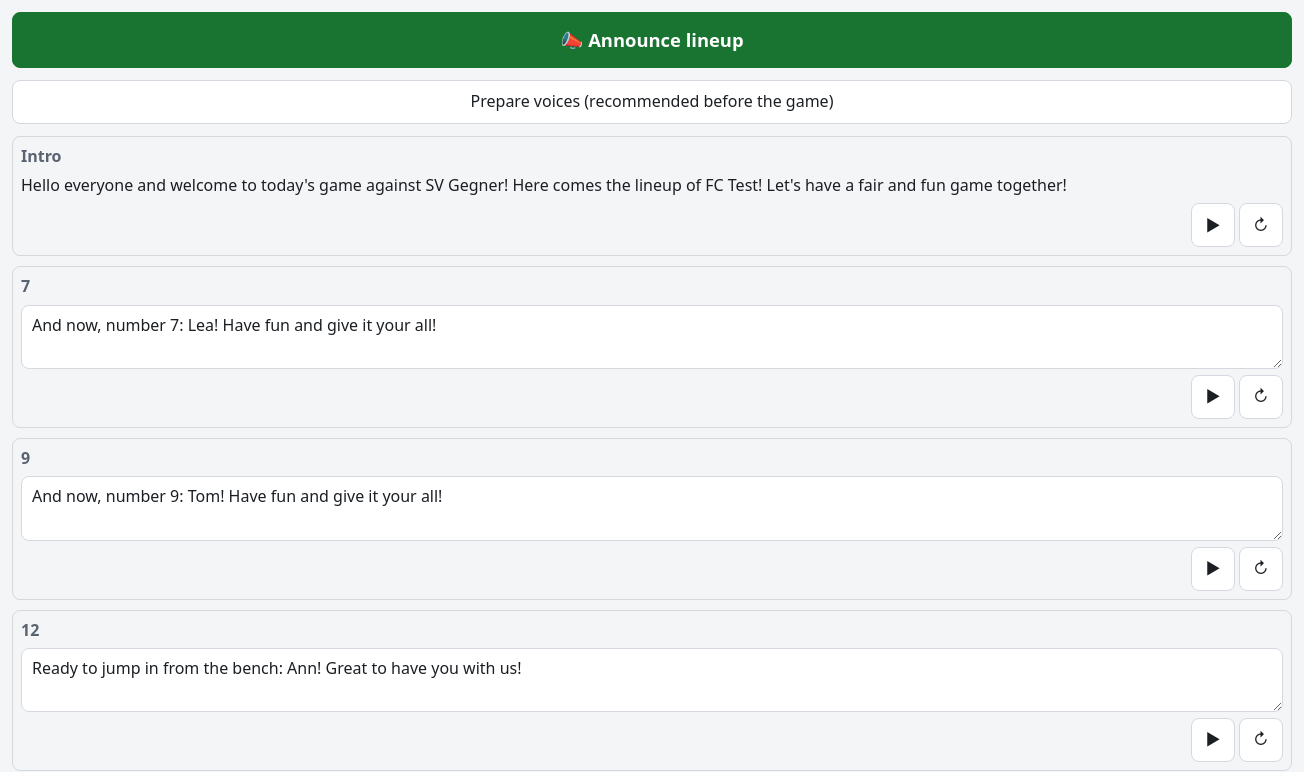
Test: Prepare voices failure clears progress, re-enables the button and shows the alert
Click the button "Prepare voices (recommended before the game)". click: (652, 102)
box: [12, 80, 1292, 124]
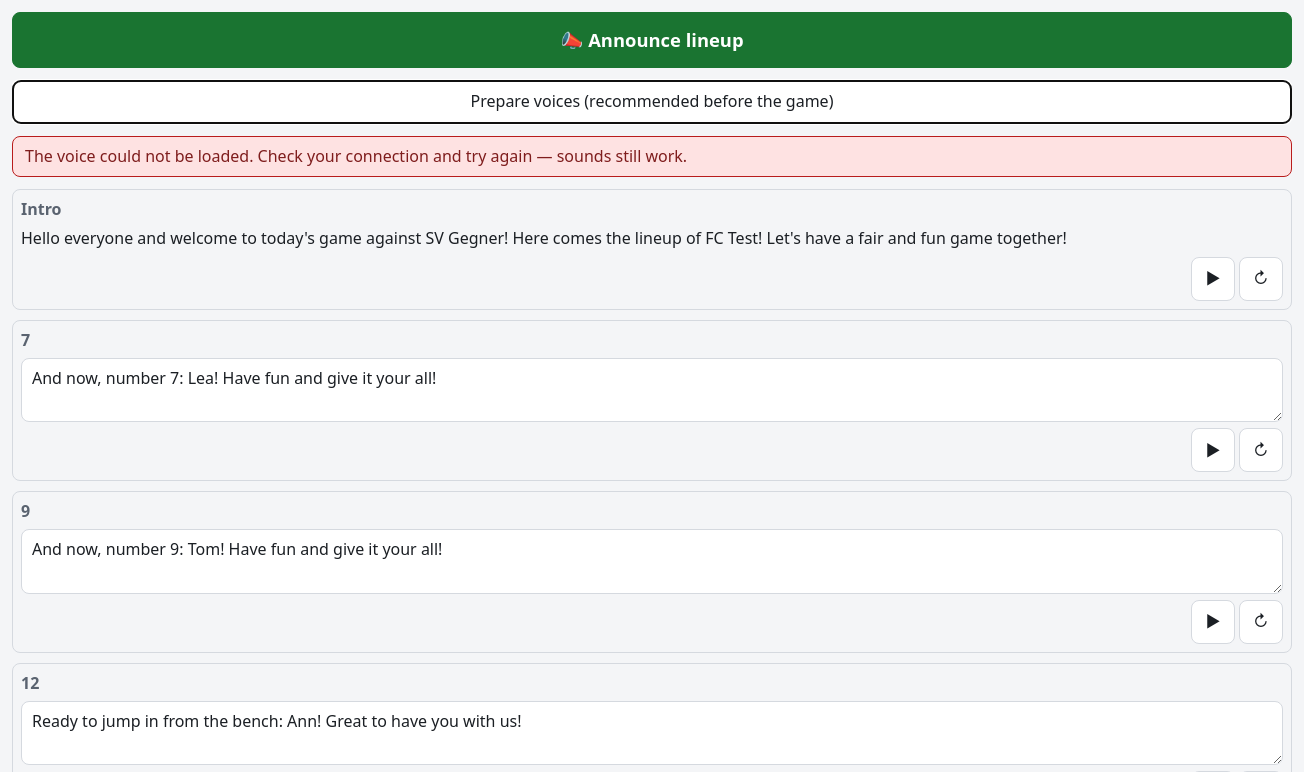
Expected: the message shows "The voice could not be loaded", [25, 145, 687, 167]
